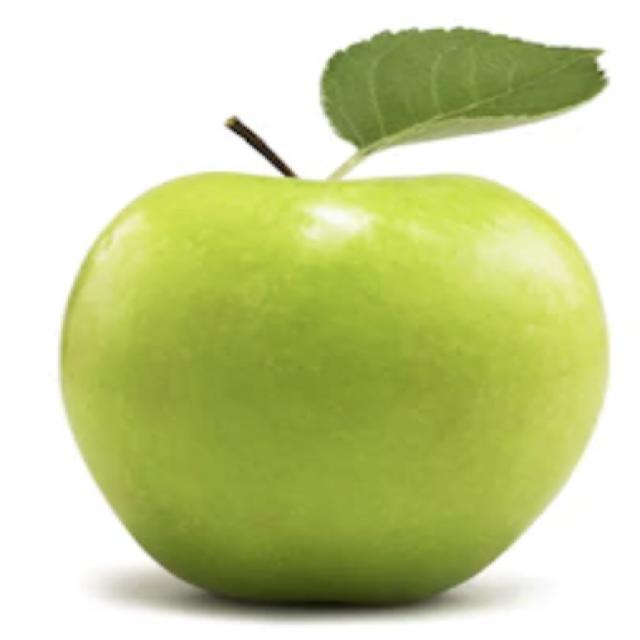Fresh Apple: (76, 162, 596, 596)
